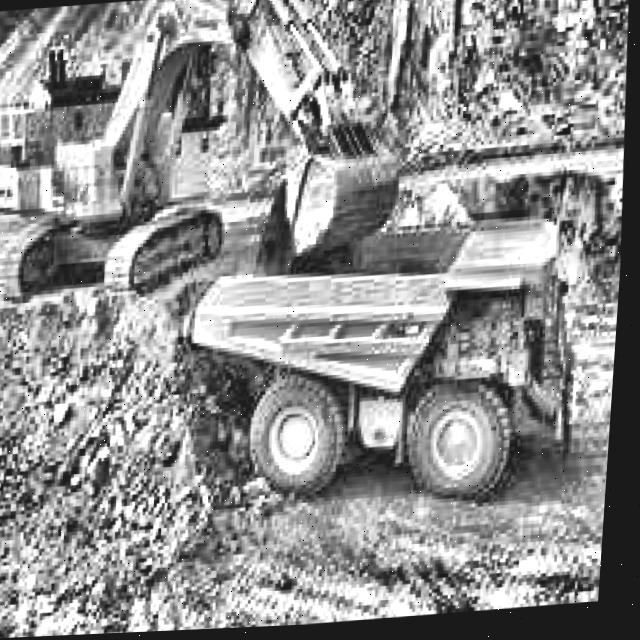dump_truck: (179, 186, 629, 532)
excavator: (0, 0, 452, 309)
